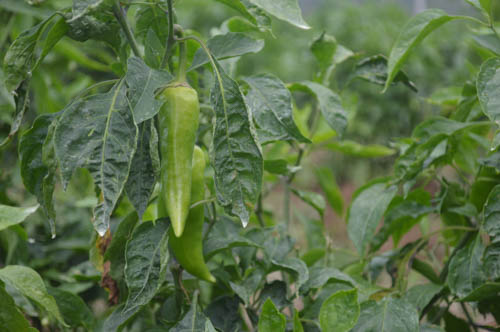ChiliPepper: (156, 86, 197, 238), (172, 149, 213, 279)
